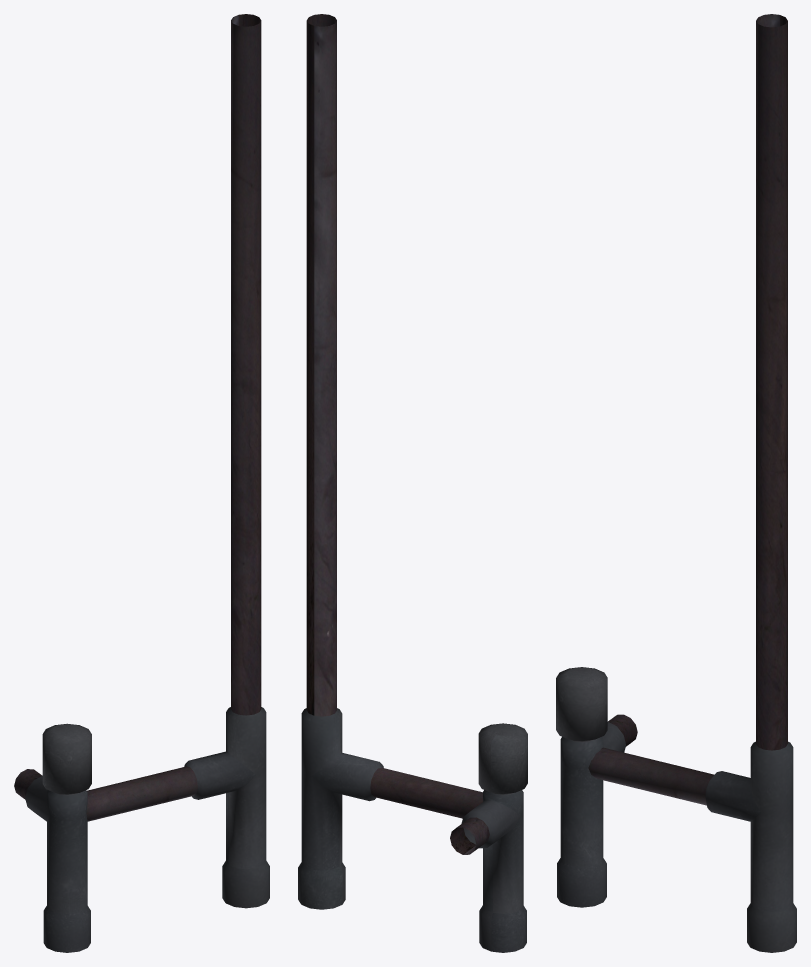
Rendered from pipes1.fbx.
3 views of the same model, side by side, from view 1: azimuth 30°, elevation 25°; view 2: azimuth 150°, elevation 25°; view 3: azimuth 330°, elevation 25° (orthographic). The views are drawn at different scales.
Visible parts, largest first — view 1: Pipes1.001; view 2: Pipes1.001; view 3: Pipes1.001.
Part boxes in pixels (x1,y1,x2,y2): Pipes1.001: (14,14,269,952); Pipes1.001: (298,14,527,952); Pipes1.001: (556,14,796,952).
Size of the model in its own units: 83.2 by 315 by 34.
